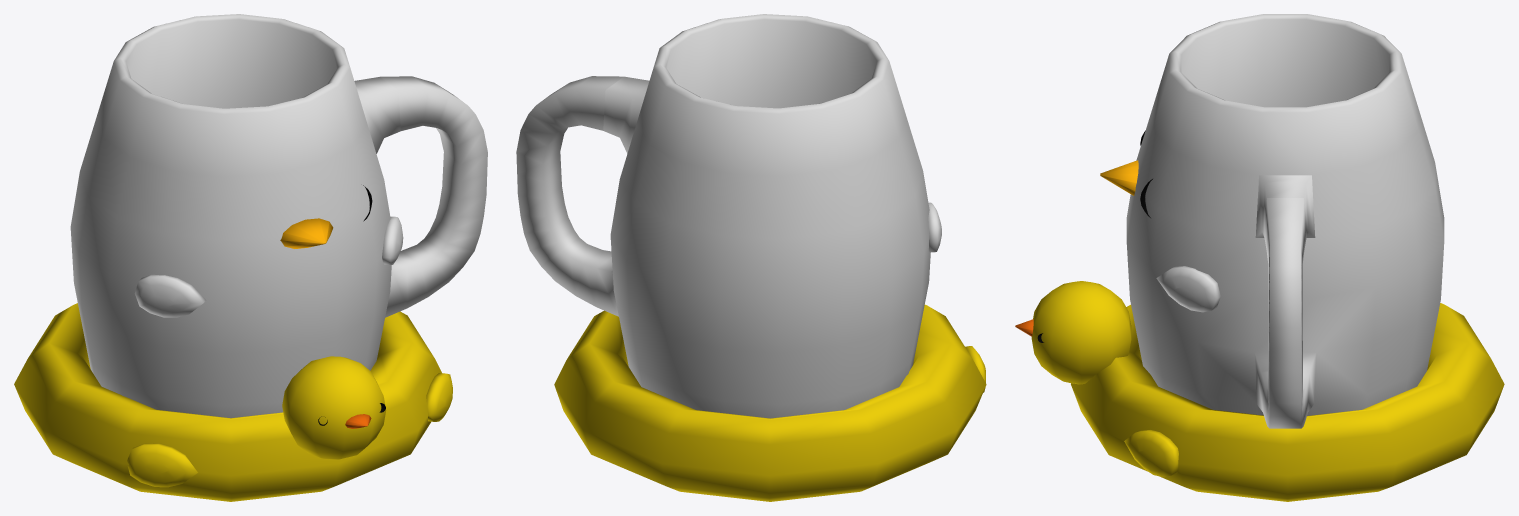
Rendered from tazapato.glb.
The picture shows the model from 3 angles, left to right: view 1: azimuth 30°, elevation 25°; view 2: azimuth 150°, elevation 25°; view 3: azimuth 270°, elevation 25°; orthographic projection.
Parts seen in each view (by area): view 1: cuerpo taza, flotador pato; view 2: cuerpo taza, flotador pato; view 3: cuerpo taza, flotador pato.
Part boxes in pixels (x1,y1,x2,y2): cuerpo taza: [70, 14, 487, 418]; flotador pato: [14, 303, 452, 501]; cuerpo taza: [516, 14, 941, 418]; flotador pato: [554, 304, 986, 501]; cuerpo taza: [1100, 14, 1444, 428]; flotador pato: [1015, 281, 1504, 501].
Size of the model in its own units: 2.95 by 2.36 by 2.87.
